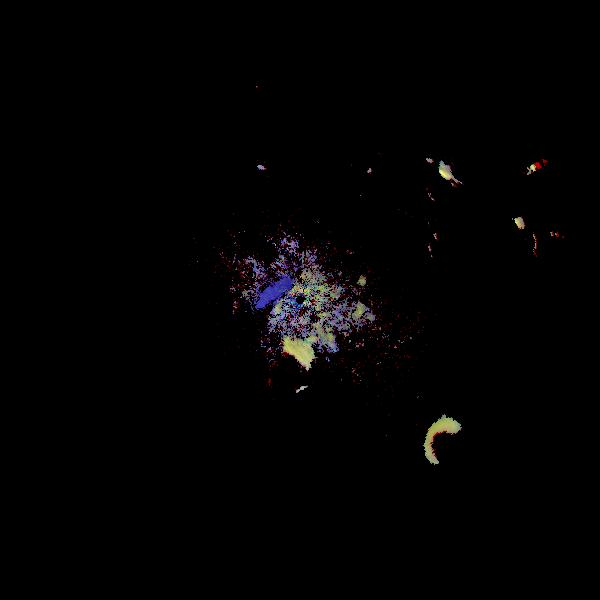roost: (415, 410, 490, 485), (262, 342, 322, 402)
